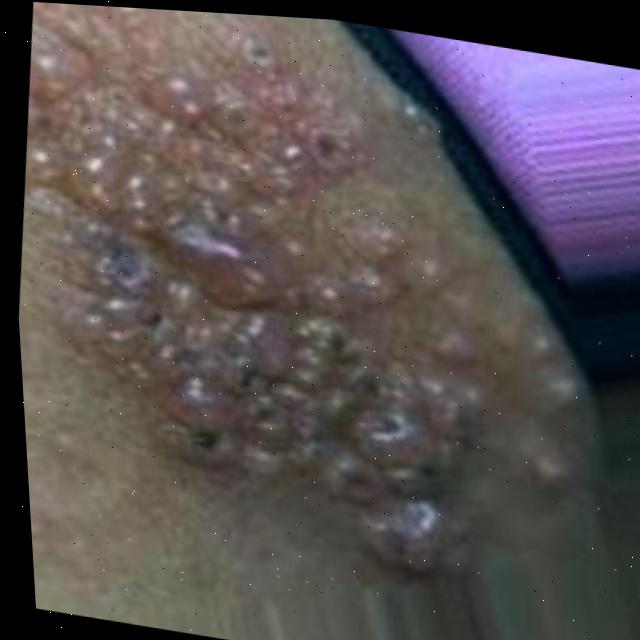Shingles: (1, 23, 541, 568)
